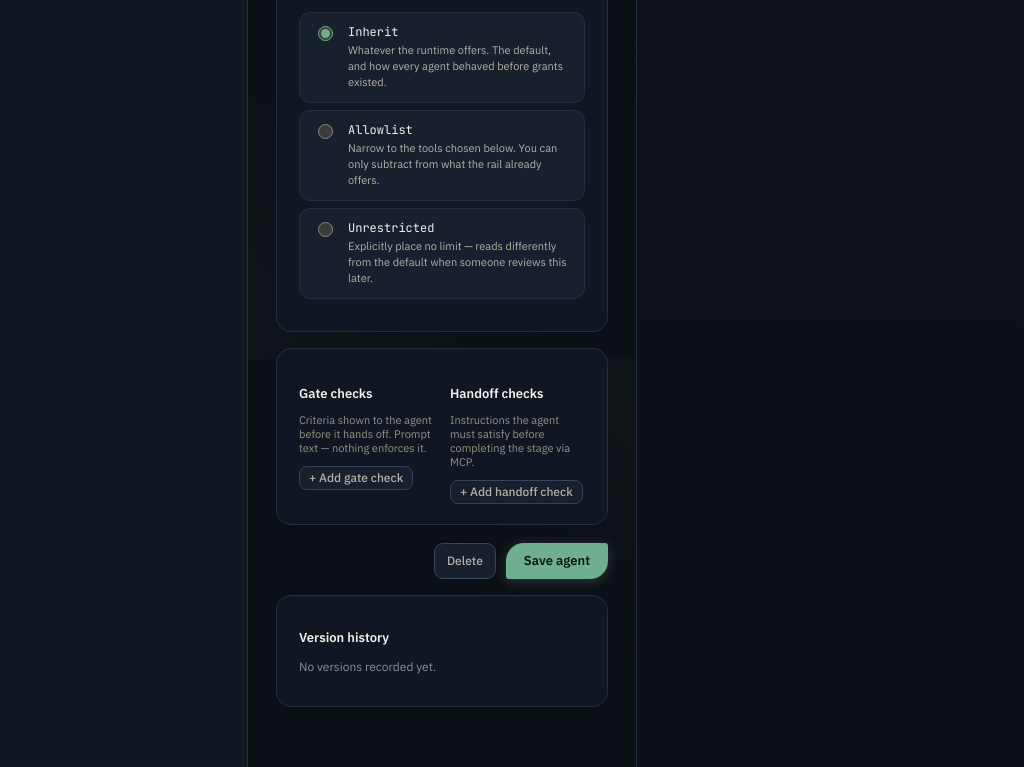
deleting an agent › cancelling leaves the agent alone
(page scrolled)
Click the button "Delete" at (465, 561), box [434,543,496,579]
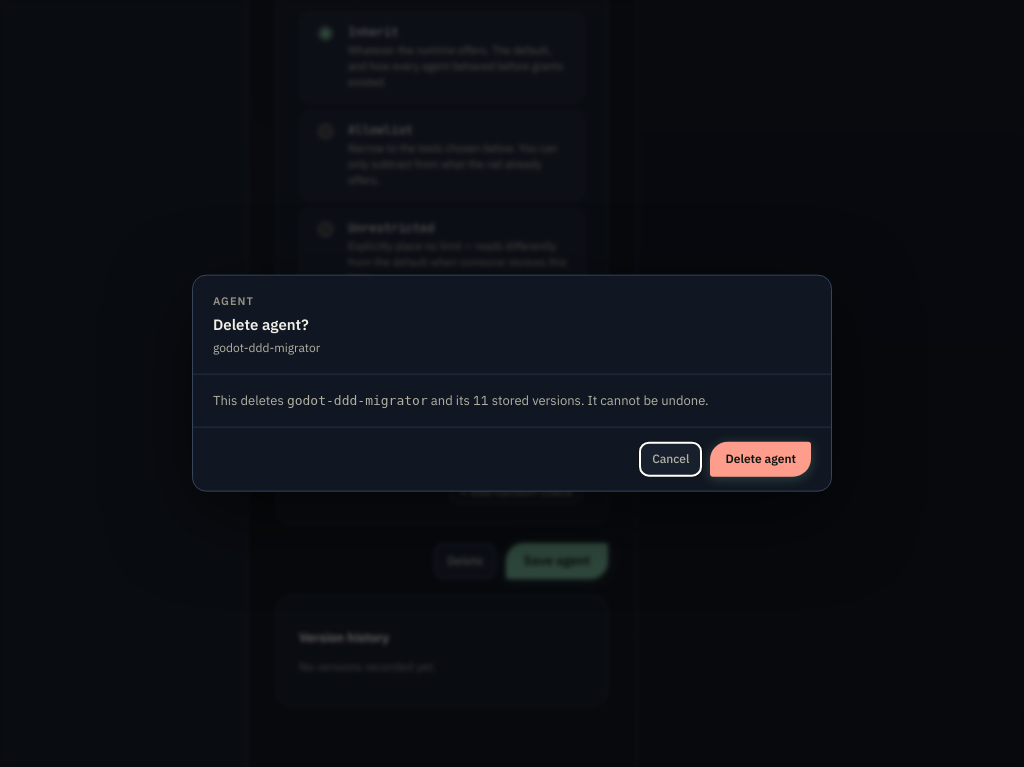
Click the button "Cancel" at (671, 459), box [639,442,702,476]
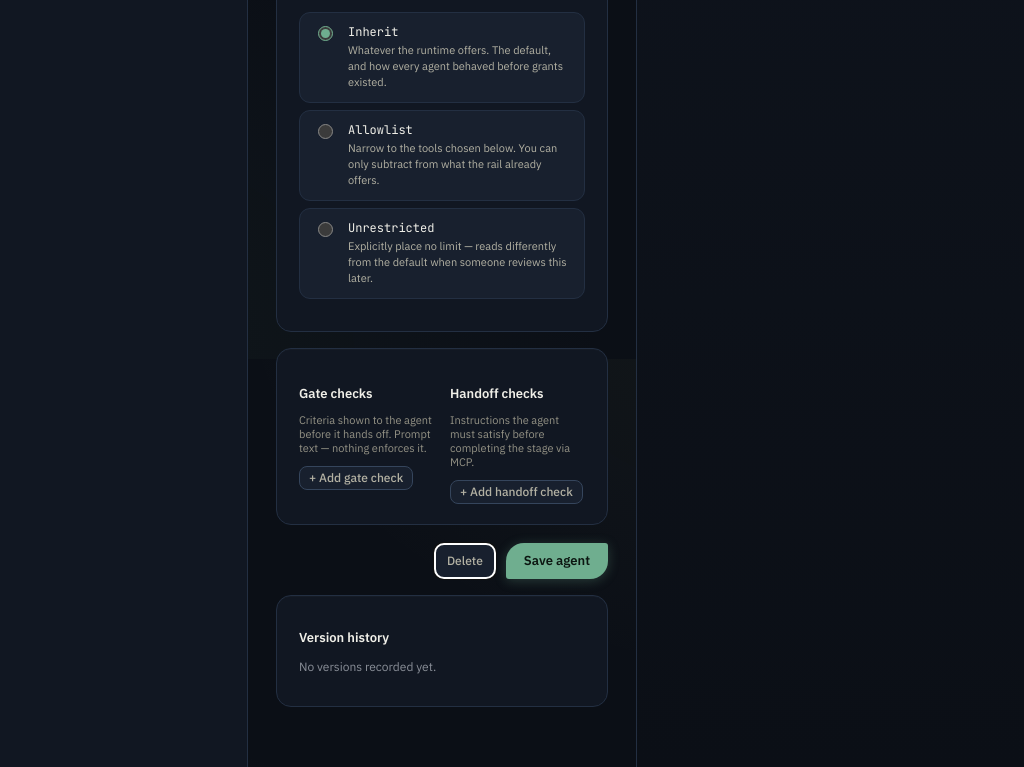
Expected: the dialog is gone
